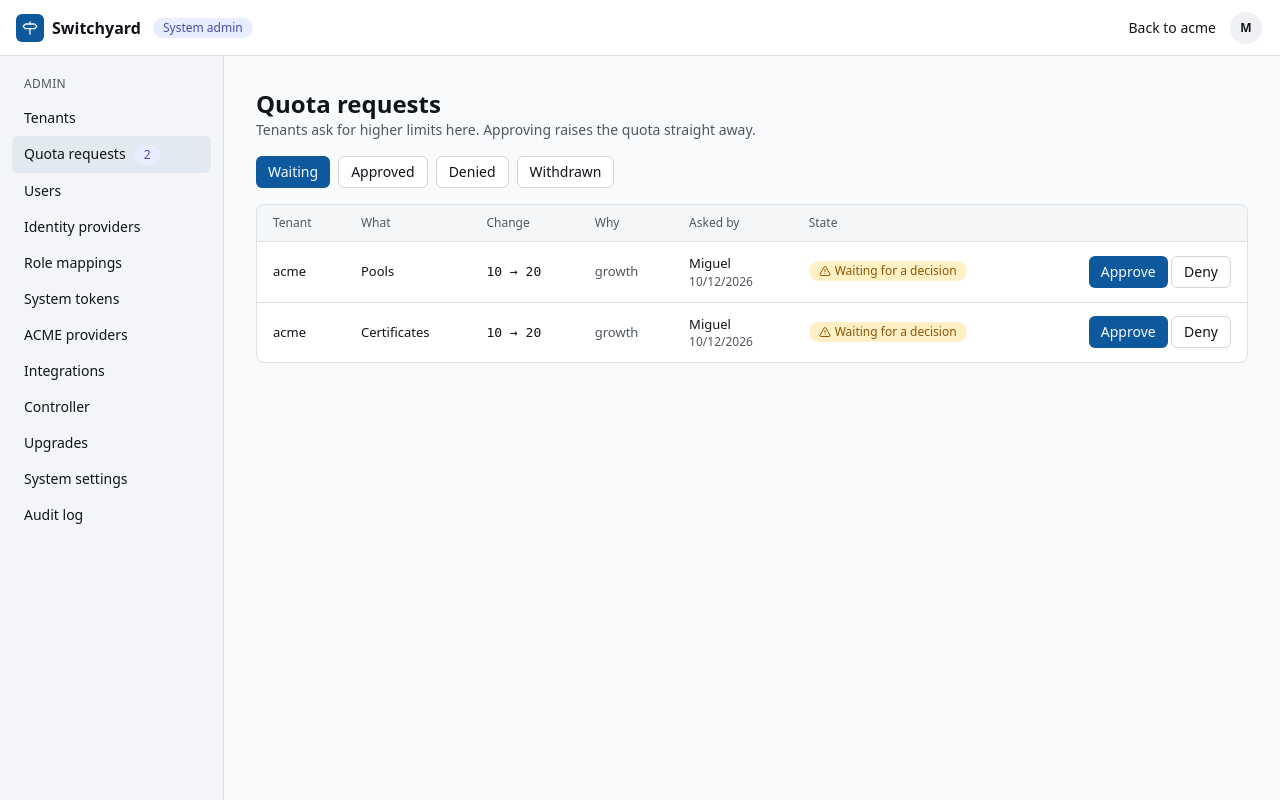
Test: admin queue › counts the waiting requests in the nav and switches state
The width and height of the screenshot is (1280, 800).
Expected: the text named "2 waiting" is shown, [134,145,160,165]
Click the button "Denied": x=472, y=172 [436,156,508,188]
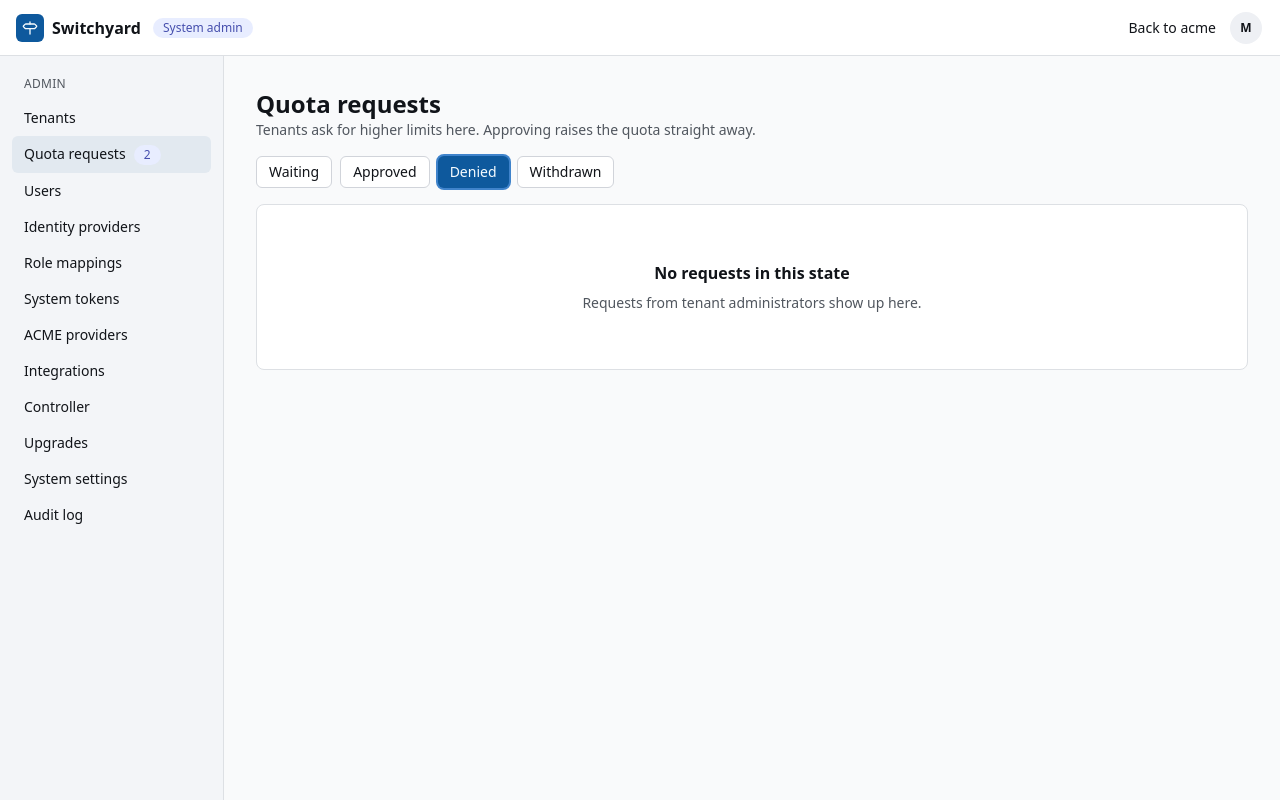
Expected: the heading "No requests in this state" is shown, [654,261,850,285]
